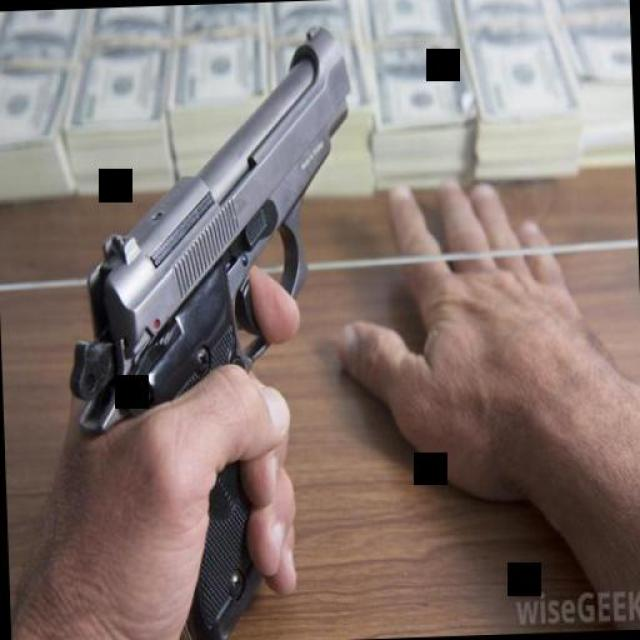gun: (55, 21, 373, 640)
